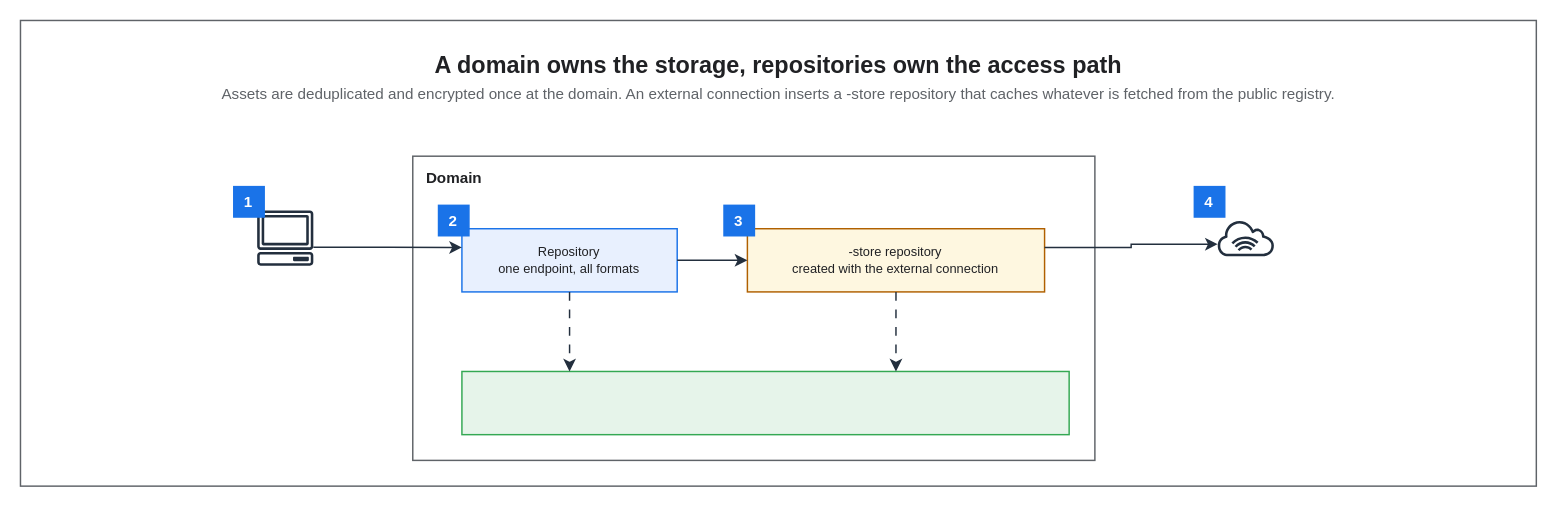
This 1557x508 diagram has some shape labels left out. The shapes that lost their labels are listed below. From the top down, each one's centre as x and y in pixels, then its label:
the point at 285,237: Build client npm, pip, mvn
the point at 1245,237: Public registry npmjs, PyPI, Maven Central
the point at 765,402: Deduplicated assets encrypted with the domain KMS key, one copy per domain
